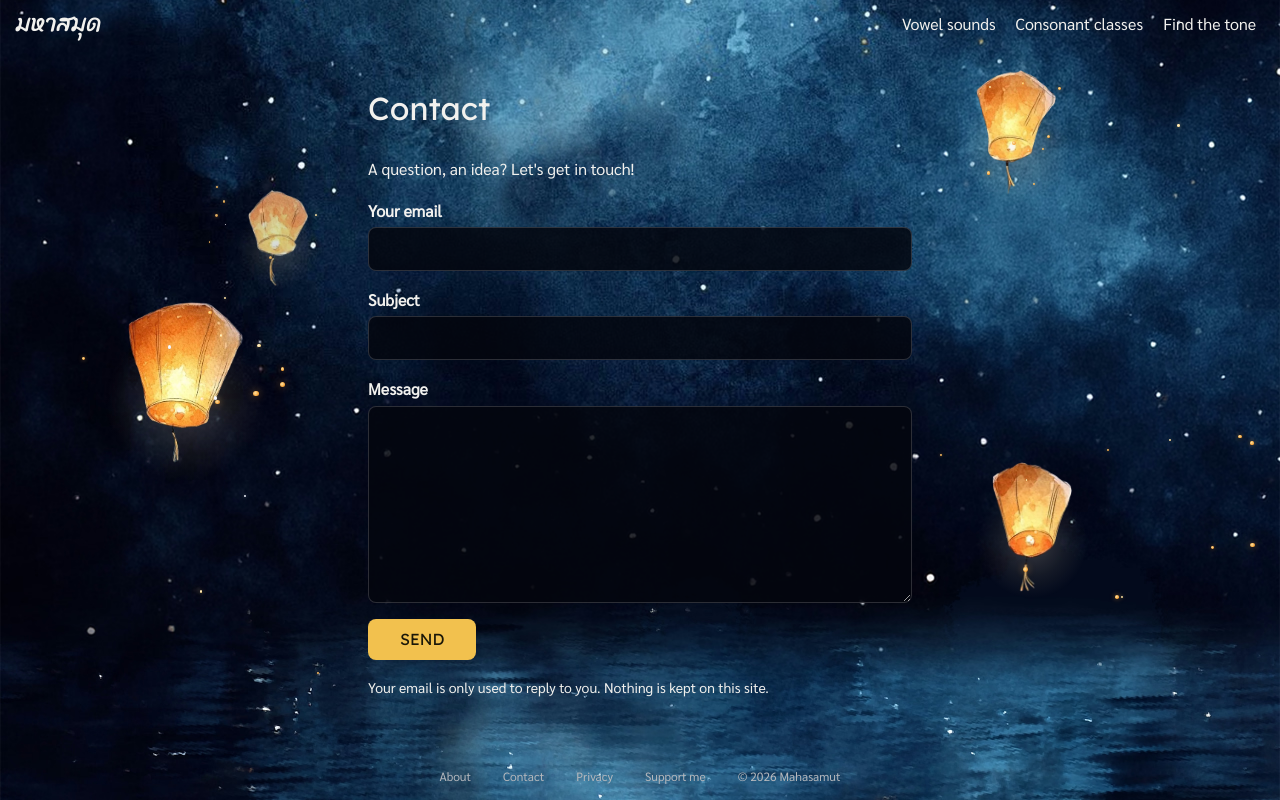
ContactPage › thanks the visitor and names the address it will reply to
Type " me@example.com " into the field labelled "Your email" at point(640, 249), box [368, 227, 912, 271]
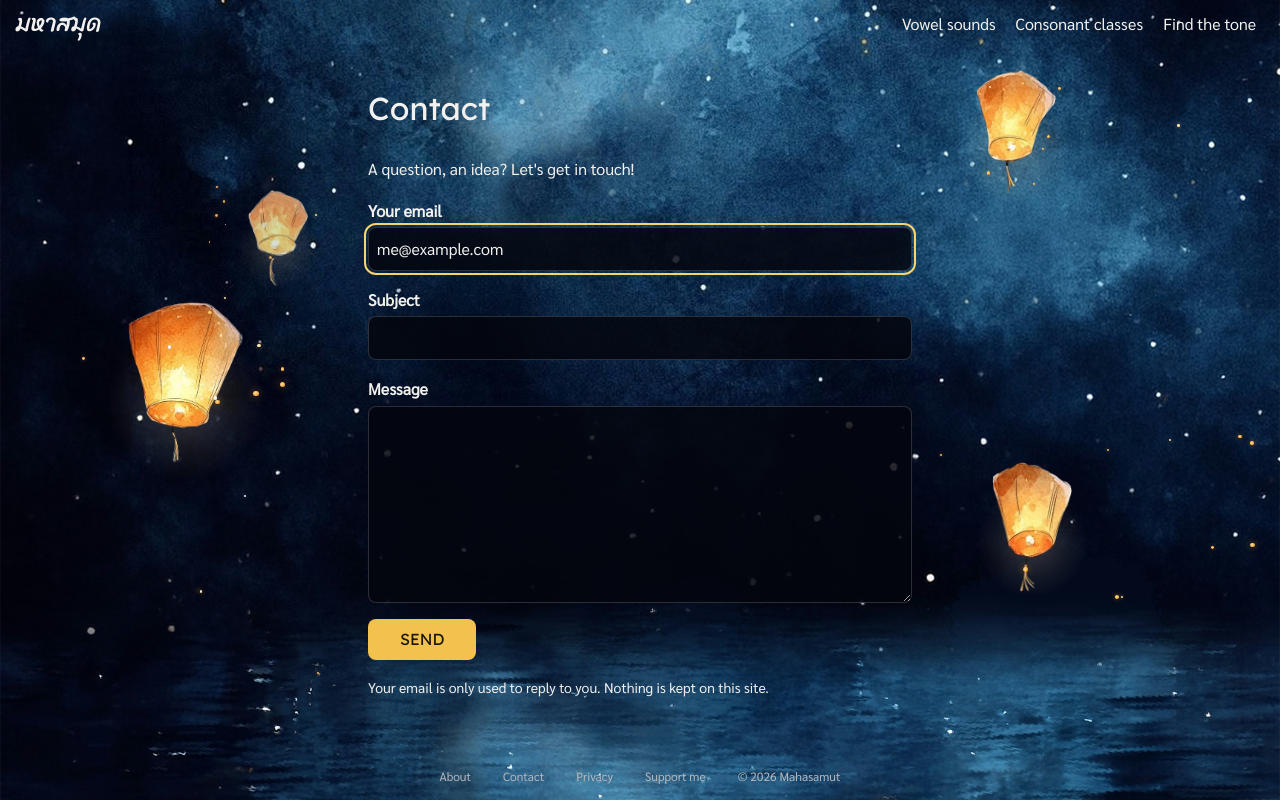
Type " Hello " into the field labelled "Subject" at point(640, 338), box [368, 316, 912, 360]
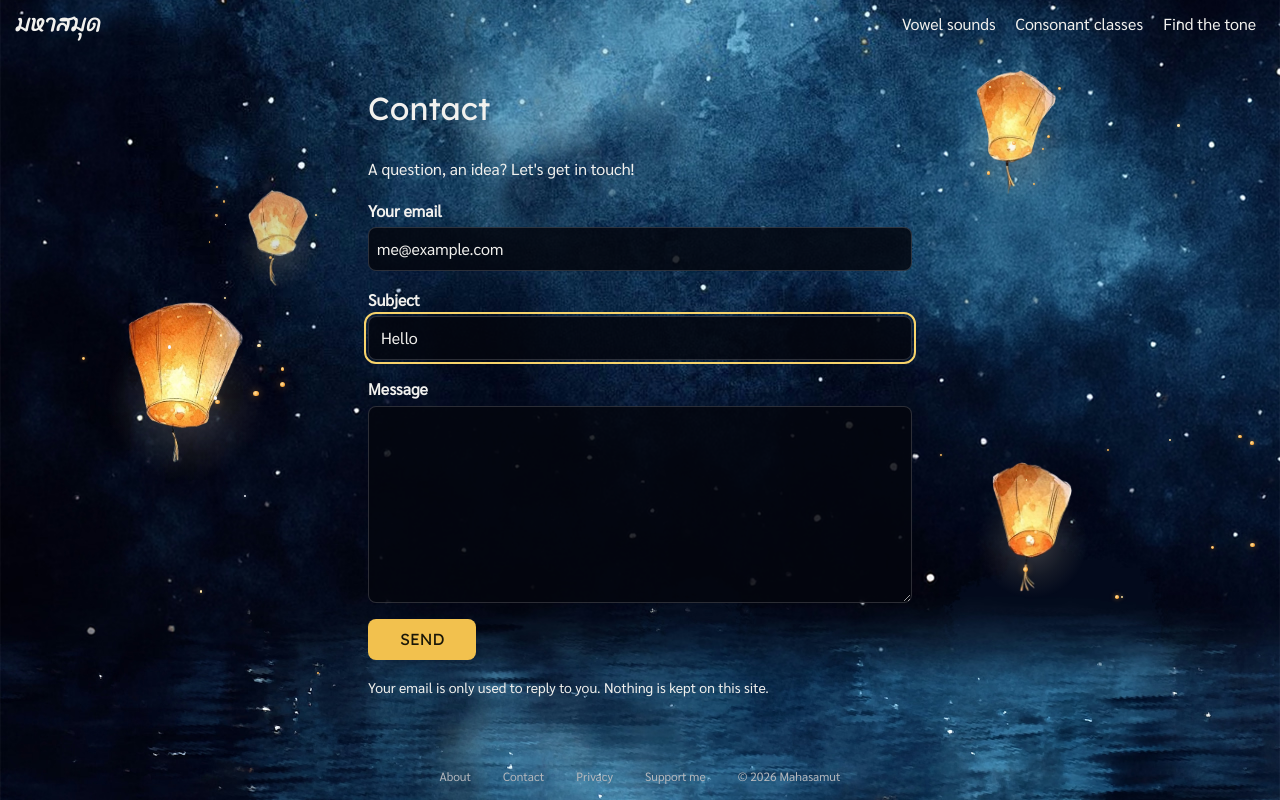
Type " A question. " into the text box labelled "Message" at point(640, 504), box [368, 406, 912, 603]
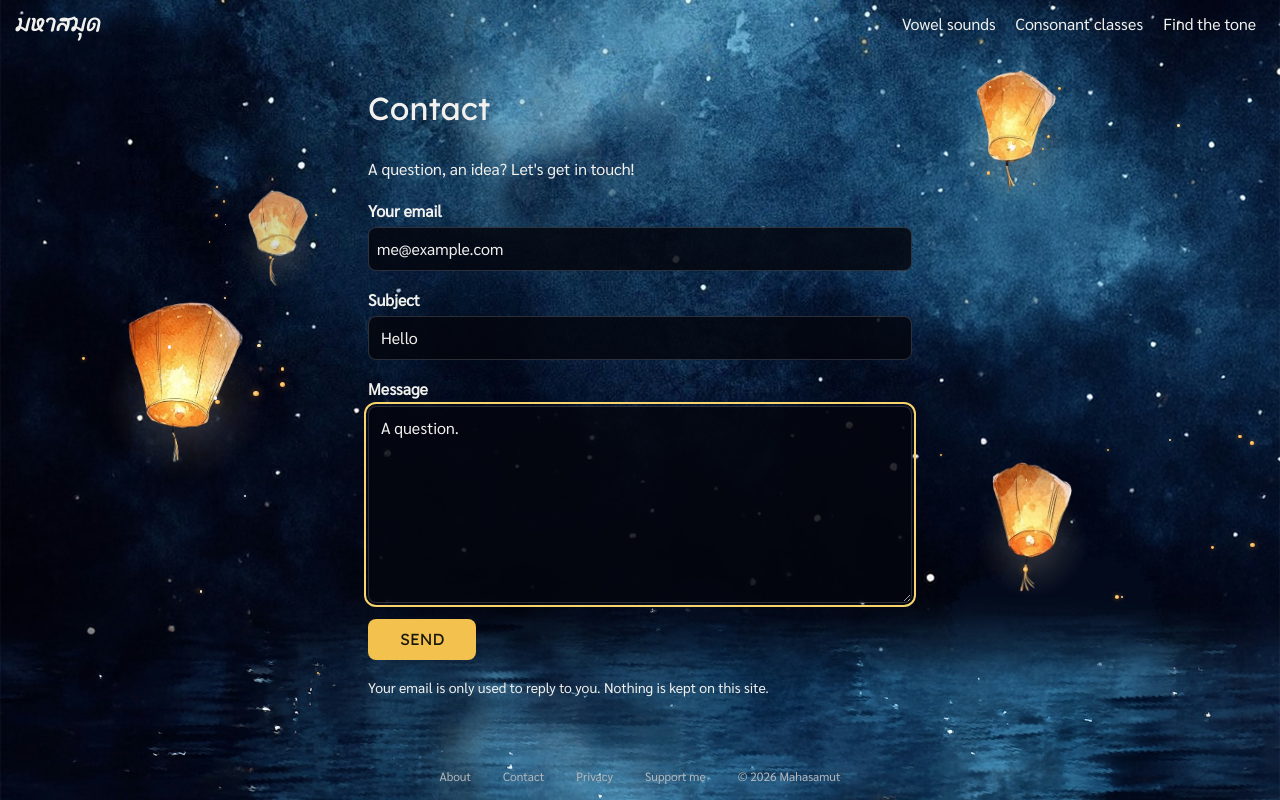
Click the button "Send" at point(422, 640), box [368, 619, 476, 660]
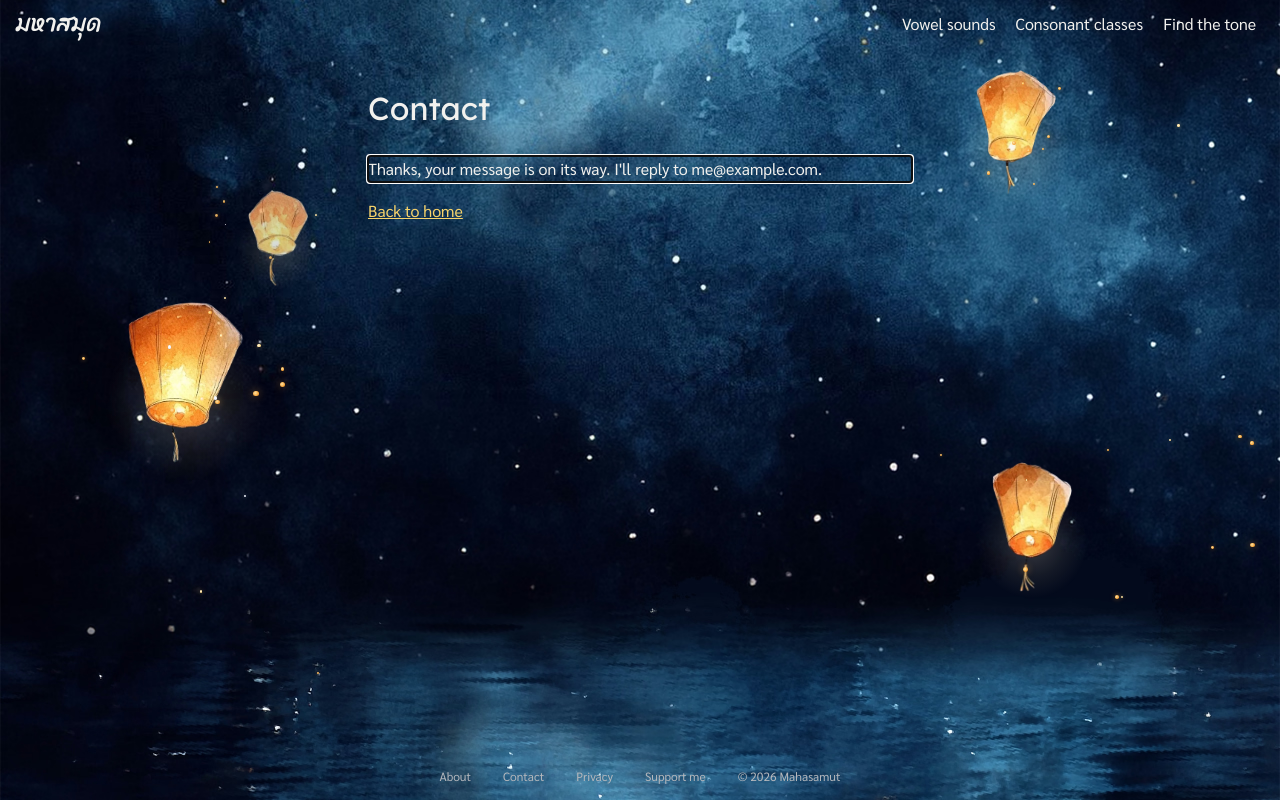
expect the text "Thanks, your message is on its way. I'll reply to me@example.com." is shown: met, box [368, 158, 822, 179]
expect the button "Send" is gone: met
